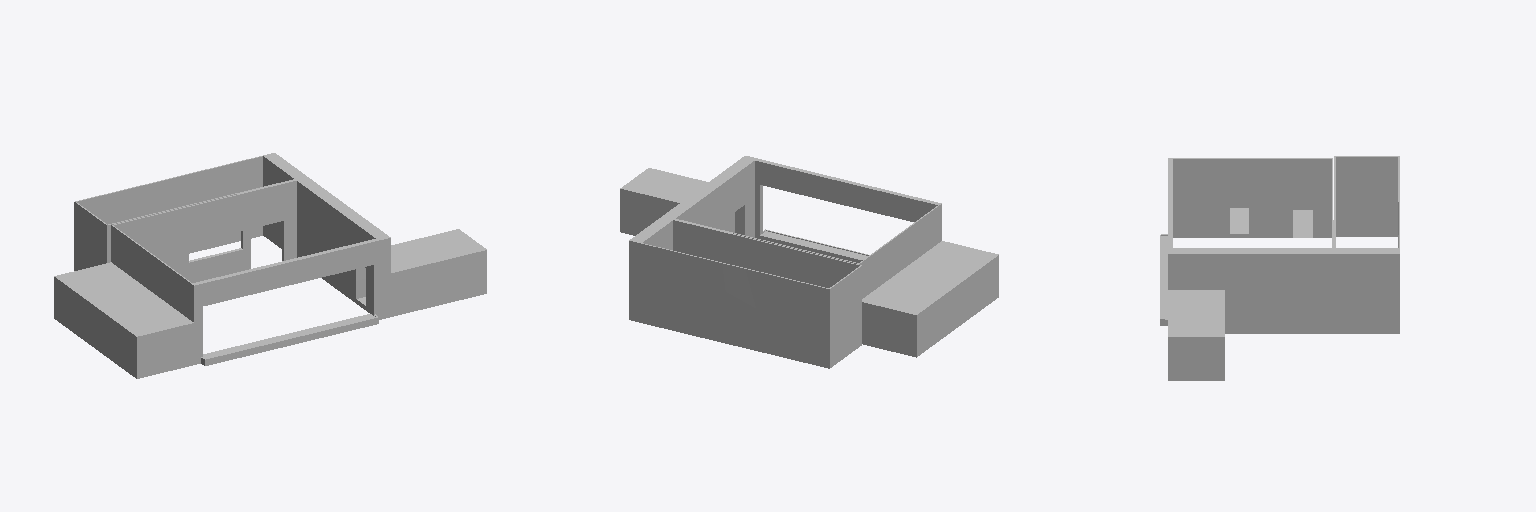
The model's file is Wall_Obj.obj.
The picture shows the model from 3 angles: view 1: azimuth 30°, elevation 25°; view 2: azimuth 150°, elevation 25°; view 3: azimuth 270°, elevation 25°; orthographic projection.
Visible parts, largest first — view 1: MeshBody1; view 2: MeshBody1; view 3: MeshBody1.
Part boxes in pixels (left/top/right/bottom): MeshBody1: left=54, top=153, right=486, bottom=378; MeshBody1: left=620, top=156, right=998, bottom=368; MeshBody1: left=1160, top=156, right=1399, bottom=380.
Size of the model in its own units: 20375 by 4463 by 12096.